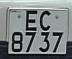3: (38, 31, 52, 54)
7: (23, 30, 38, 54), (51, 31, 64, 54)
8: (10, 31, 25, 54)
C: (38, 9, 53, 32)
E: (23, 10, 40, 32)
